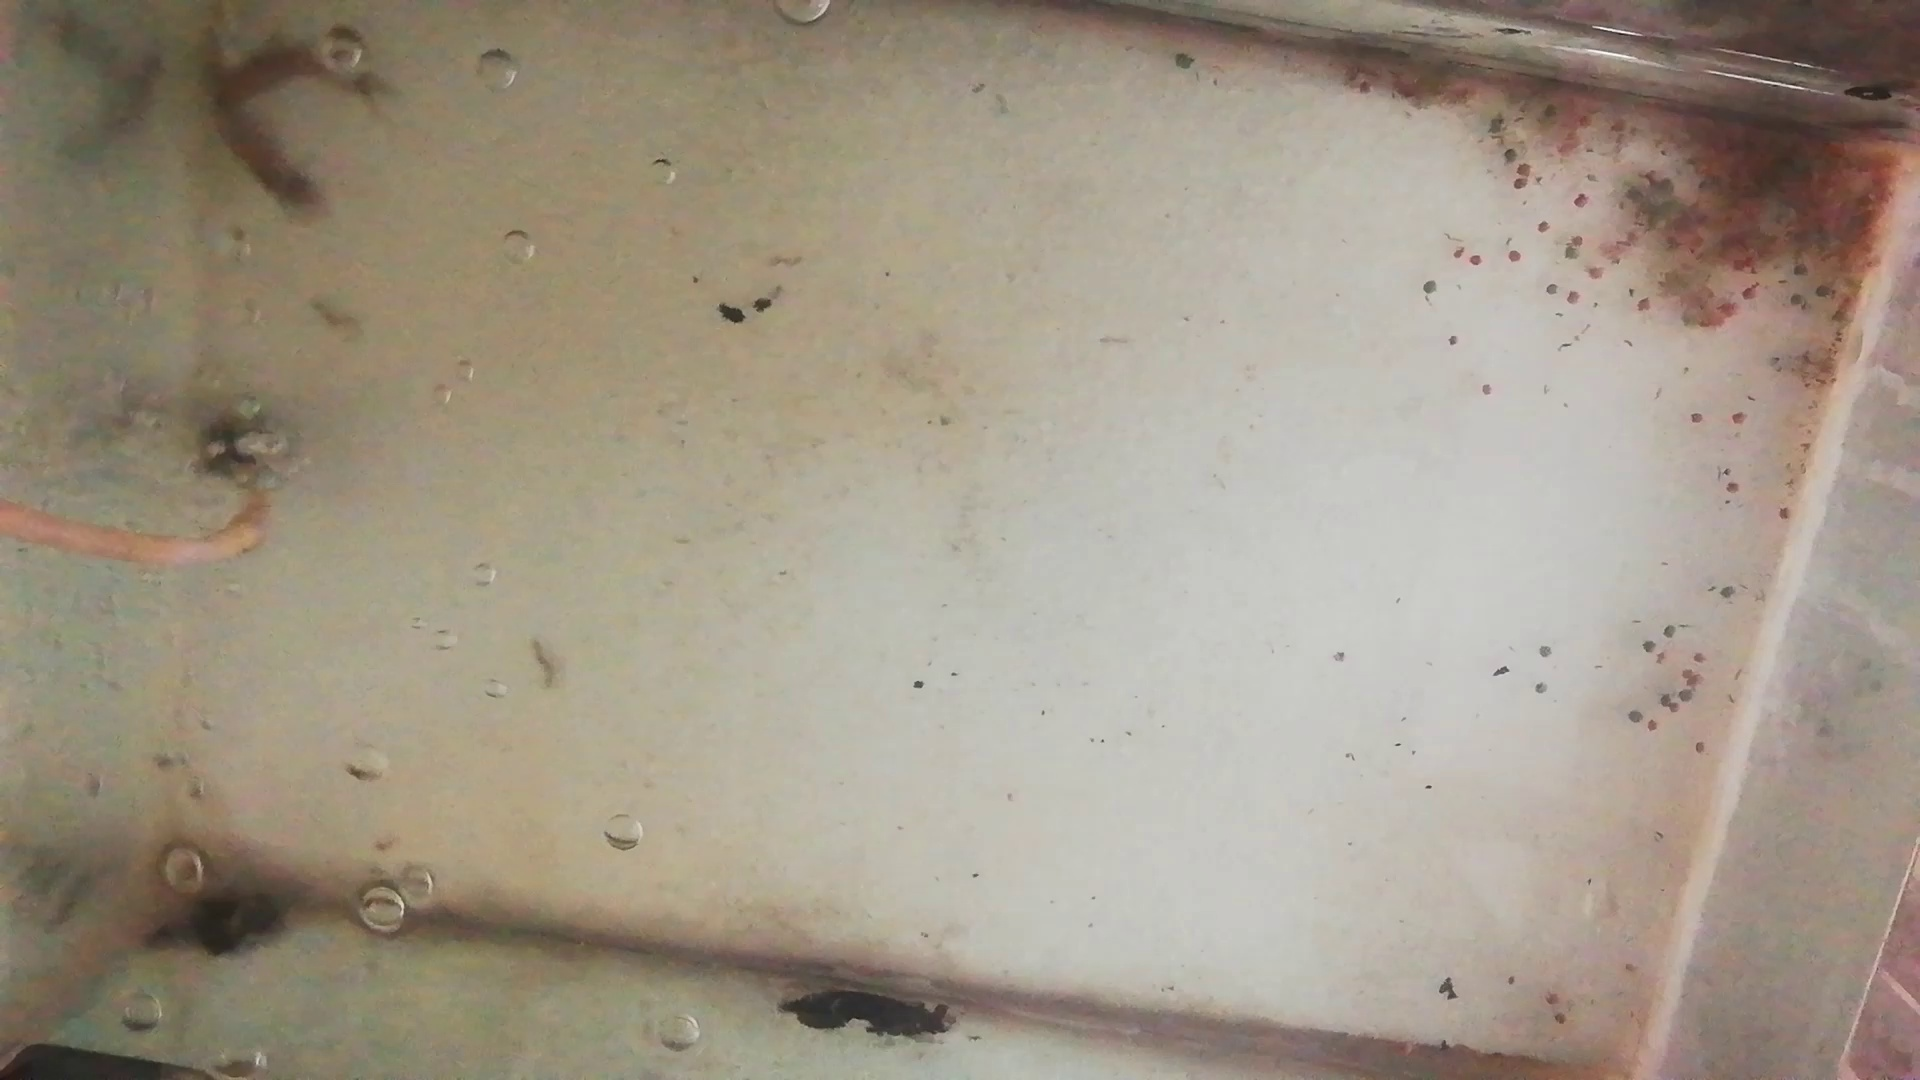fish: (191, 11, 322, 232), (195, 41, 407, 111)
